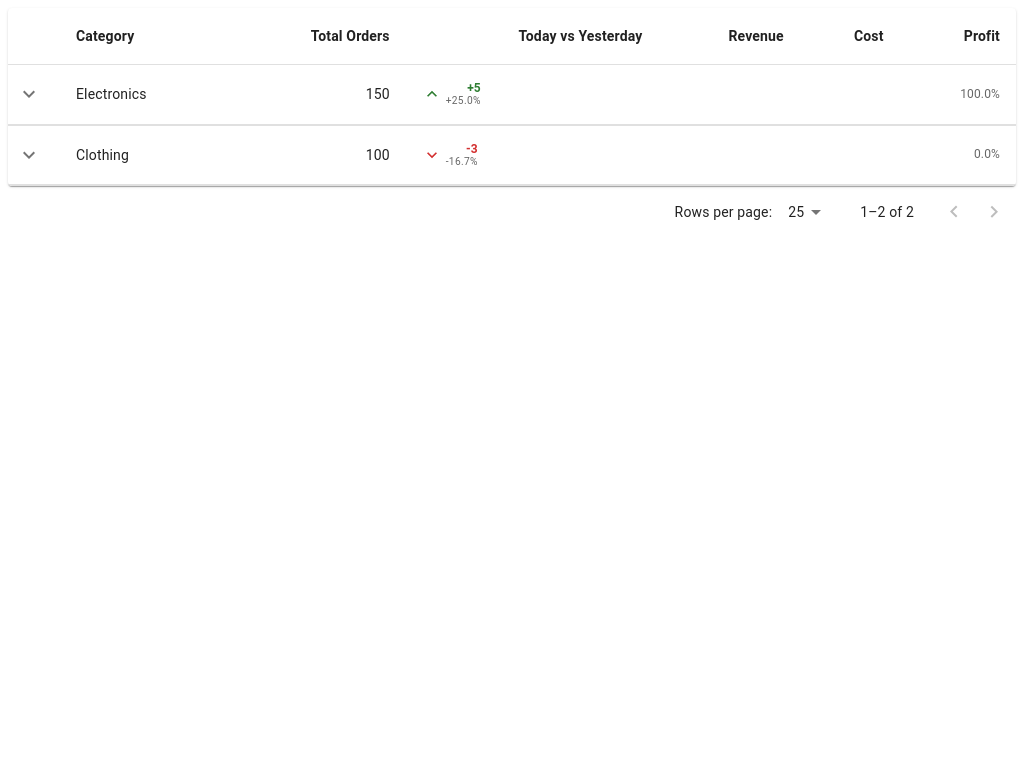
Test: MergedCategoryTable › hides products when same category row is clicked again
Expected: the text "Electronics" is shown, x1=60 y1=64 x2=226 y2=124
Click the text "Electronics": (512, 94) x1=8 y1=64 x2=1016 y2=124
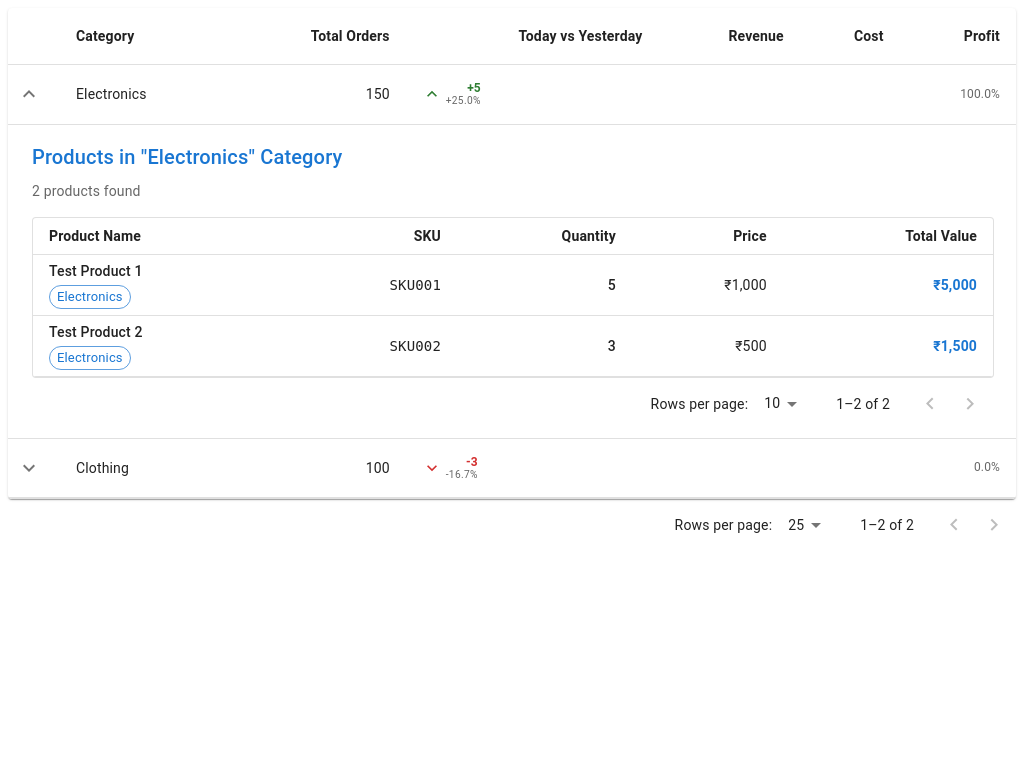
Result: the heading "Products in \"Electronics\" Category" is shown at x1=32 y1=145 x2=342 y2=169
Click the text "Electronics": (512, 94) x1=8 y1=64 x2=1016 y2=124
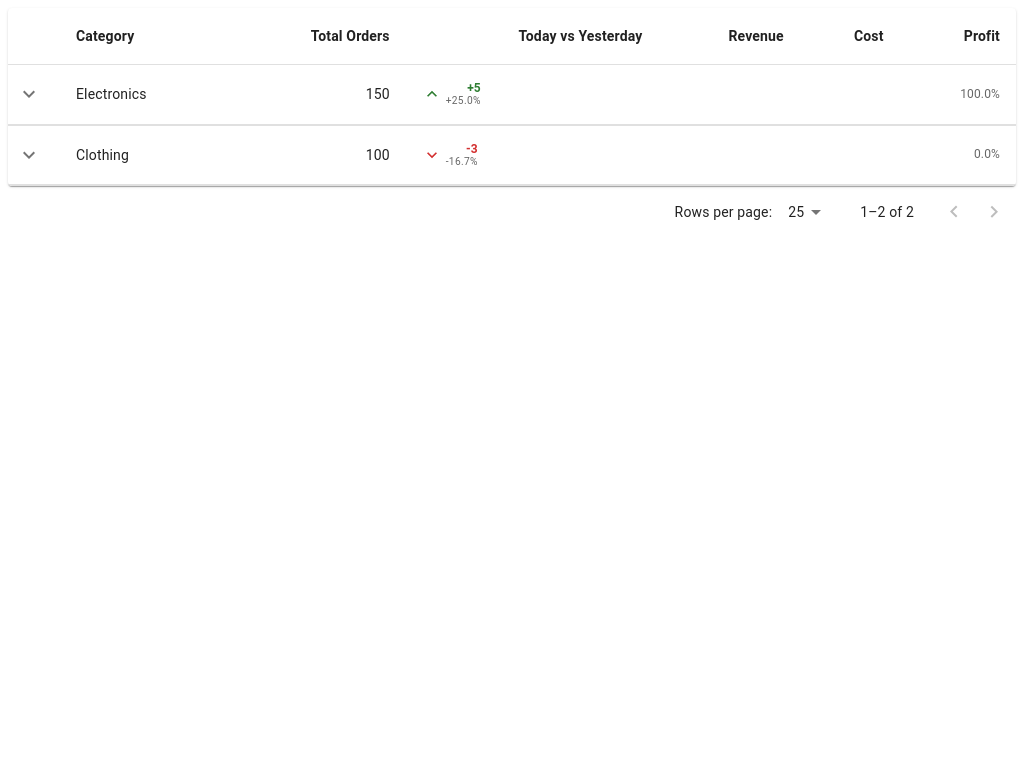
Result: the heading "Products in \"Electronics\" Category" is gone
